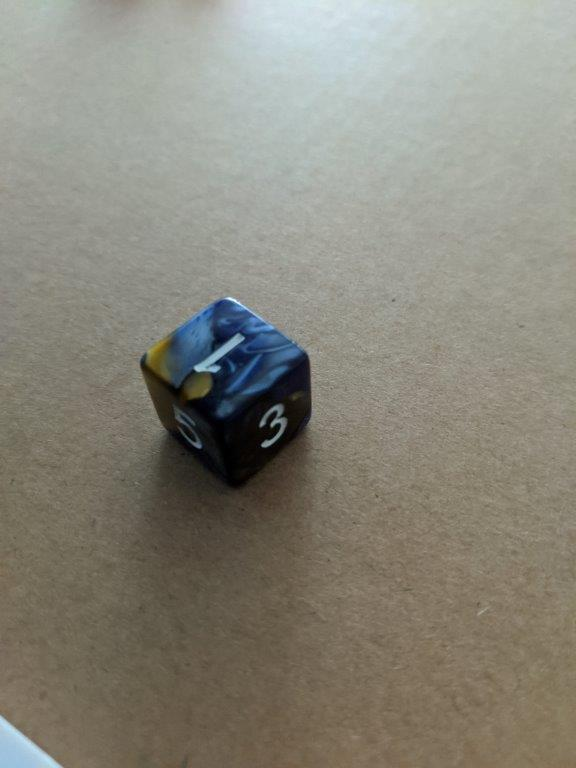d6-1: (138, 294, 315, 491)
